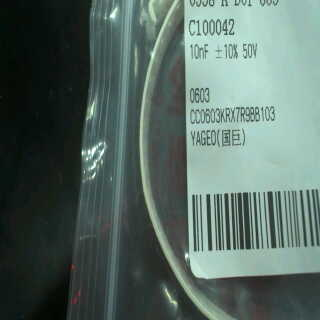10nF: (188, 41, 213, 64)
